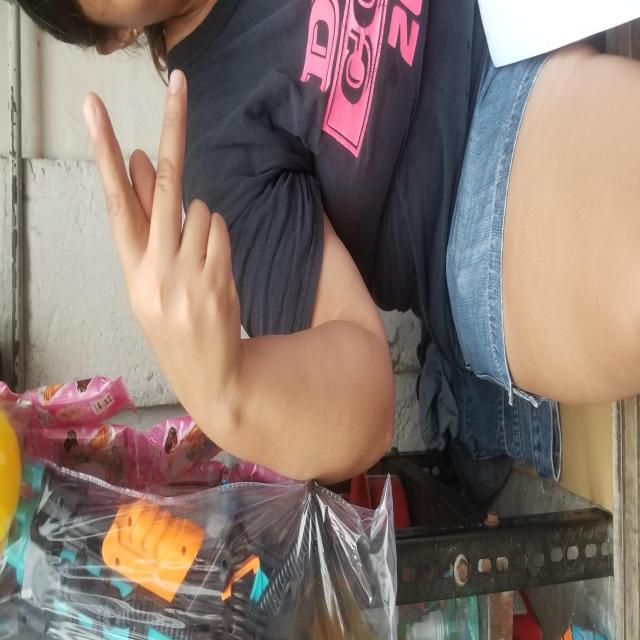K: (216, 81, 572, 242)
